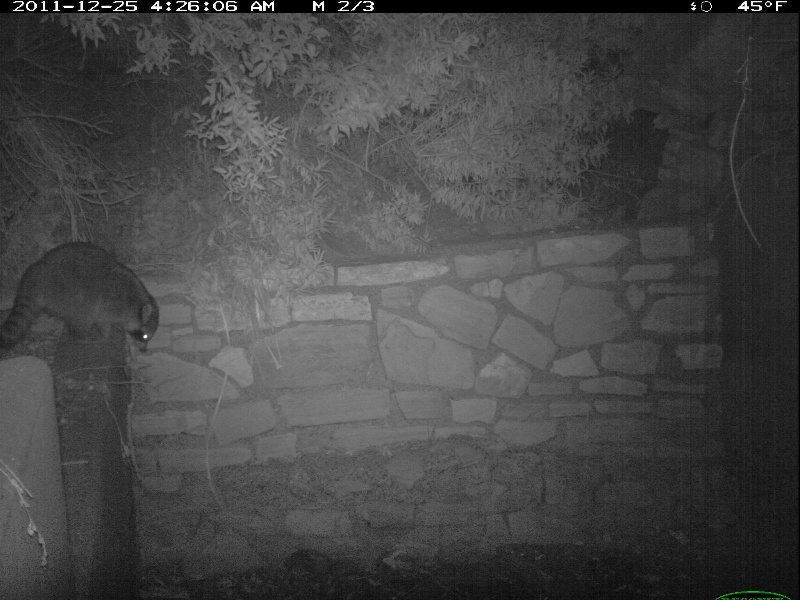raccoon: (1, 237, 162, 359)
